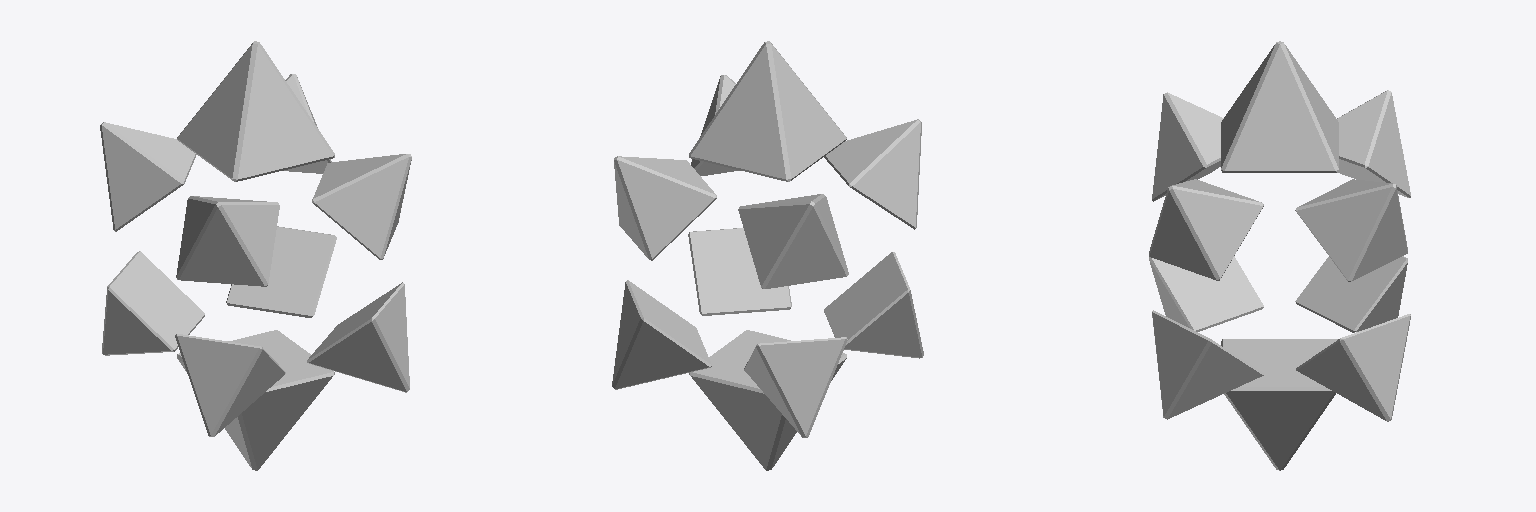
File: trispike.obj
The picture shows the model from 3 angles: view 1: azimuth 30°, elevation 25°; view 2: azimuth 150°, elevation 25°; view 3: azimuth 270°, elevation 25°; orthographic projection.
Visible parts, largest first — view 1: Plane005, Plane006; view 2: Plane005, Plane006; view 3: Plane005, Plane006.
Boxes of the visible parts, x1,y1,x2,y2 form: Plane005: [100, 41, 411, 286]; Plane006: [102, 226, 409, 470]; Plane005: [614, 41, 921, 288]; Plane006: [612, 228, 923, 470]; Plane005: [1149, 41, 1410, 281]; Plane006: [1149, 256, 1410, 470].
Size of the model in its own units: 1.56 by 2.8 by 1.56.